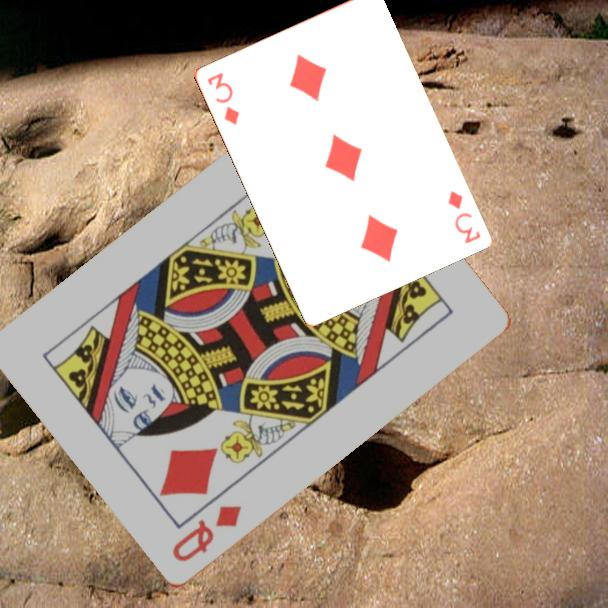d03: (443, 186, 483, 247), (203, 69, 242, 128)
d12: (168, 502, 245, 566)
